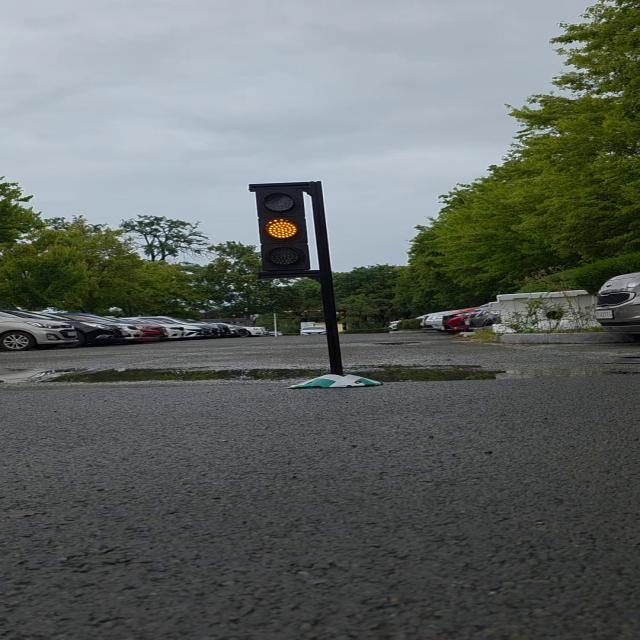yellow: (248, 187, 324, 279)
